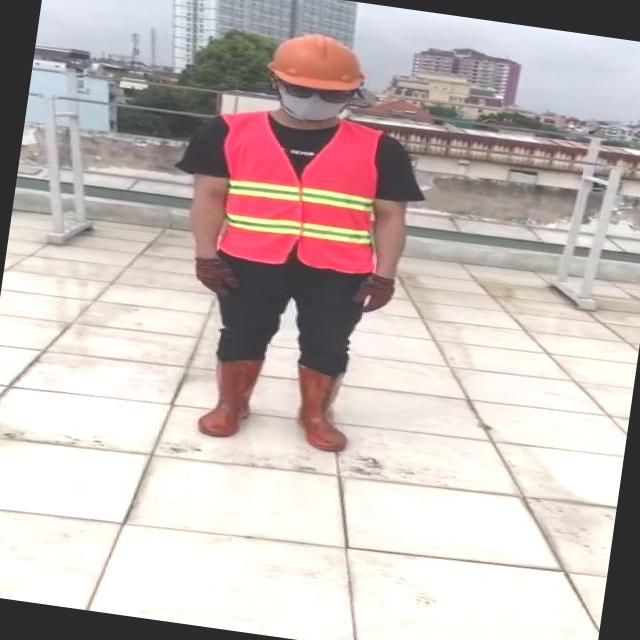boots: (284, 365, 359, 456), (196, 351, 261, 444)
helmet: (260, 22, 376, 98)
vest: (205, 105, 392, 279)
